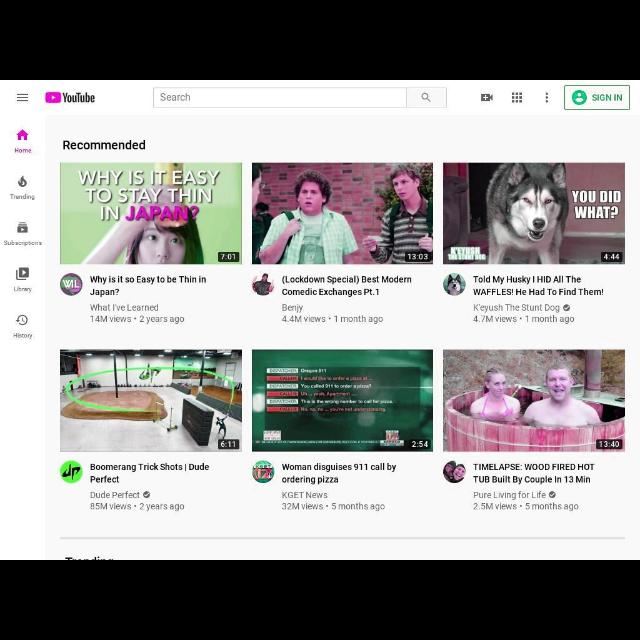button: (406, 89, 446, 108)
icon: (15, 266, 29, 282), (45, 92, 61, 104), (16, 129, 28, 141), (16, 314, 28, 326), (17, 221, 27, 233), (512, 91, 522, 103), (481, 92, 494, 101), (17, 176, 27, 187), (16, 92, 28, 101), (421, 92, 431, 101), (545, 92, 549, 104), (563, 304, 569, 312), (144, 492, 150, 498), (550, 492, 554, 498)
image: (59, 162, 242, 264), (443, 349, 624, 451), (253, 162, 433, 264), (253, 350, 432, 452), (61, 351, 241, 452), (443, 162, 624, 262), (60, 274, 82, 296), (252, 272, 274, 294), (444, 460, 466, 482), (60, 462, 82, 483), (443, 274, 465, 294), (252, 462, 274, 482), (572, 90, 586, 104)
input: (153, 89, 407, 107)
text: (474, 275, 604, 297), (282, 276, 412, 296), (472, 462, 594, 483), (90, 462, 210, 483), (90, 276, 206, 296), (282, 464, 396, 484), (282, 502, 384, 514), (472, 502, 580, 512), (473, 314, 575, 324), (63, 140, 147, 152), (282, 315, 382, 325), (90, 315, 186, 325), (90, 503, 184, 513), (472, 303, 560, 313), (473, 492, 547, 500), (90, 304, 160, 312), (282, 491, 328, 501), (64, 92, 95, 105), (90, 491, 140, 499), (3, 240, 42, 248), (161, 92, 191, 101), (592, 94, 622, 102), (282, 303, 302, 313), (13, 332, 33, 340), (10, 194, 36, 200), (14, 147, 32, 155), (13, 286, 31, 294)
textbutton: (566, 86, 630, 110)
toolbar: (1, 80, 639, 116)
